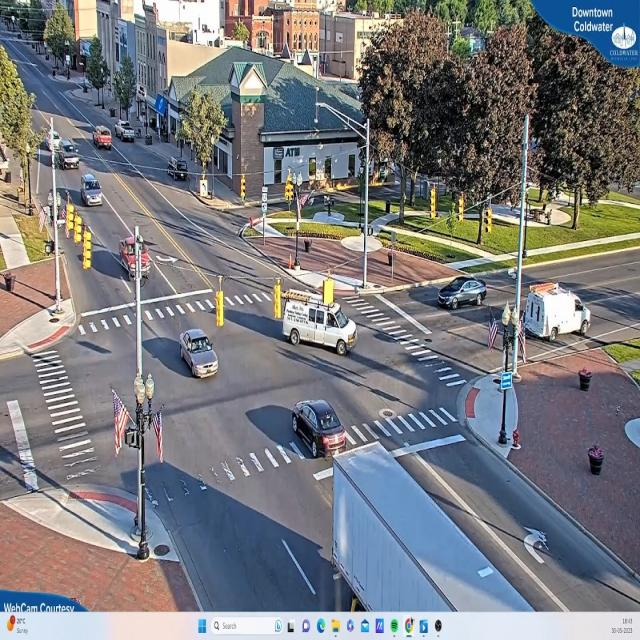car: (292, 401, 346, 458), (180, 329, 220, 379), (117, 231, 151, 280), (435, 279, 486, 311), (82, 173, 105, 207), (55, 142, 81, 170), (94, 127, 113, 149), (118, 125, 136, 143)
truck: (281, 296, 357, 356)
